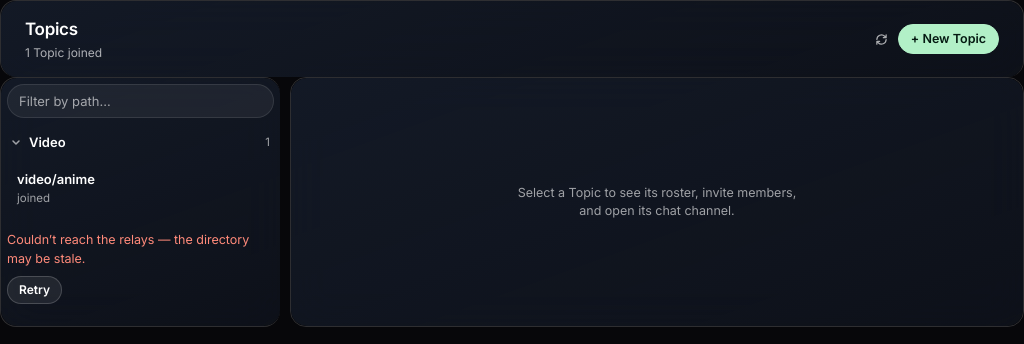
Test: review 1 — paint failure with joined rows still surfaces a retryable error › mount paint FAILS with a joined Topic on screen → the joined row AND the alert both render, and Retry re-paints
The width and height of the screenshot is (1024, 344).
Expected: the text "video/anime" is shown, [17,171,95,187]
Expected: the message "Couldn’t reach the relays — the directory may be stale. Retry" is shown, [7,215,274,320]
Click the button "Retry": (34, 290) [7,276,62,304]
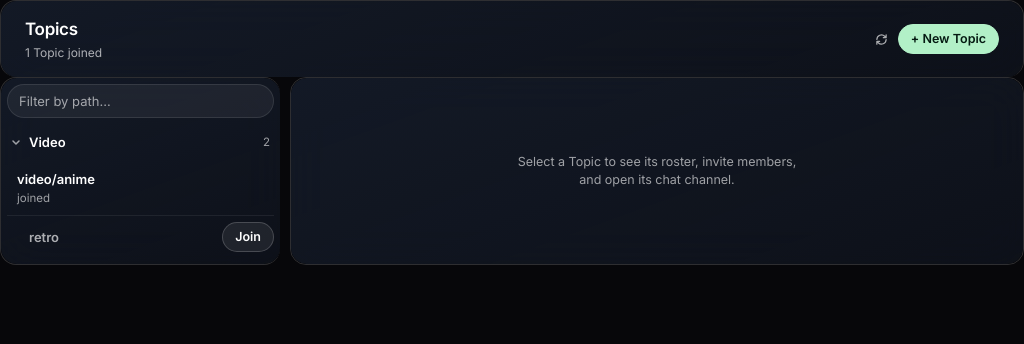
Now the message "Couldn’t reach the relays — the directory may be stale. Retry" is gone
